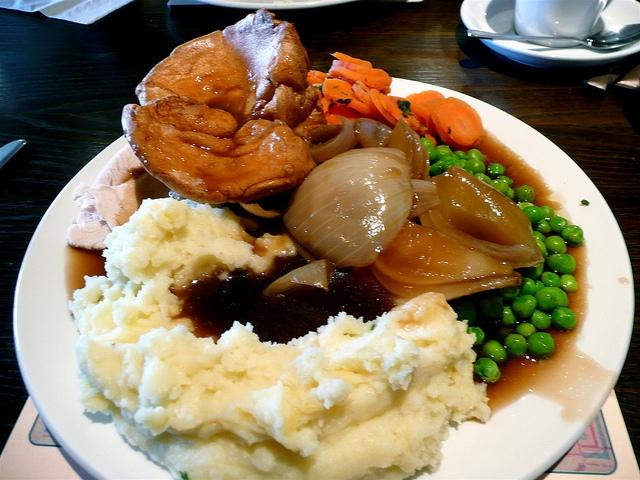carrot: (432, 96, 482, 149), (379, 92, 428, 134), (328, 66, 392, 90), (320, 96, 366, 126), (369, 88, 398, 126), (414, 100, 439, 138), (332, 60, 390, 76), (352, 80, 379, 112), (332, 98, 372, 118), (322, 78, 355, 100), (329, 52, 373, 68), (416, 90, 446, 104), (312, 70, 334, 81), (424, 133, 438, 147)
onion: (283, 148, 413, 268), (369, 219, 523, 301), (430, 164, 542, 262), (383, 117, 431, 181), (309, 115, 356, 164), (268, 259, 334, 292), (408, 179, 440, 220), (354, 118, 393, 148)
pea: (535, 287, 568, 314), (527, 332, 555, 358), (474, 358, 501, 382), (512, 294, 538, 318), (551, 306, 577, 330), (548, 253, 576, 275), (482, 295, 504, 322), (482, 340, 507, 363), (560, 225, 584, 247), (504, 334, 528, 356), (522, 206, 544, 228), (454, 302, 476, 324), (530, 310, 552, 330), (544, 236, 568, 254), (439, 156, 463, 173), (516, 184, 536, 204), (541, 271, 561, 288), (560, 274, 578, 292), (525, 262, 544, 279), (465, 158, 485, 174), (516, 322, 536, 338), (468, 326, 484, 346), (489, 179, 508, 195), (500, 286, 520, 301), (535, 218, 553, 234), (520, 278, 536, 296), (430, 160, 445, 177), (502, 306, 516, 324), (550, 218, 568, 232), (466, 148, 484, 162), (488, 164, 505, 176), (473, 173, 491, 184), (540, 206, 554, 220), (420, 138, 434, 150), (534, 230, 546, 243), (497, 176, 512, 186), (518, 201, 534, 210), (536, 239, 546, 253), (456, 150, 466, 160), (507, 189, 515, 199), (465, 169, 473, 176)
